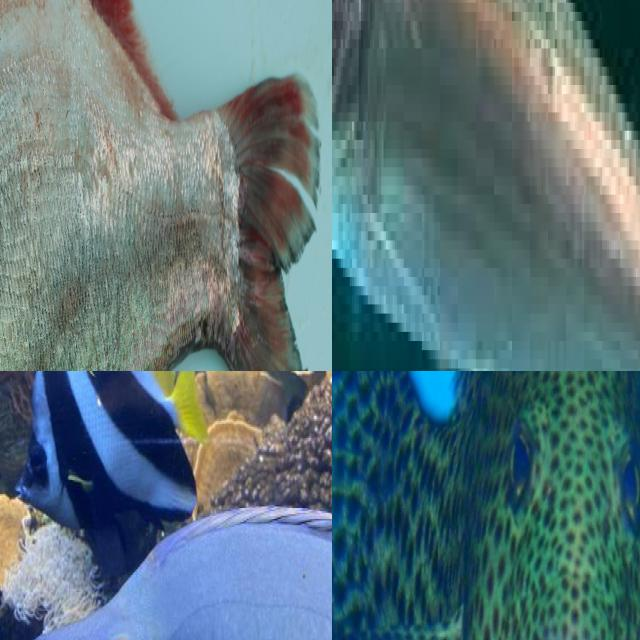fish: (0, 0, 332, 371), (332, 371, 640, 640), (332, 0, 608, 249)
